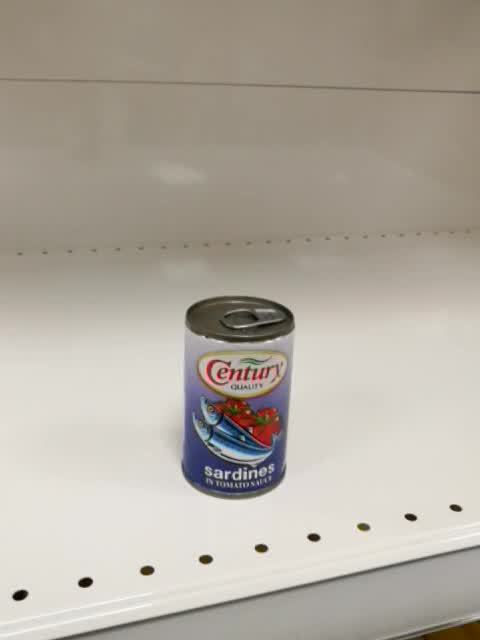sardine: (180, 294, 297, 501)
